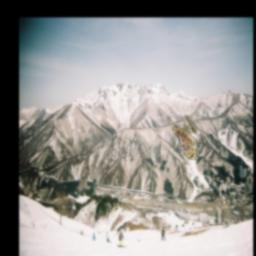Sparrow: (165, 115, 199, 160)
